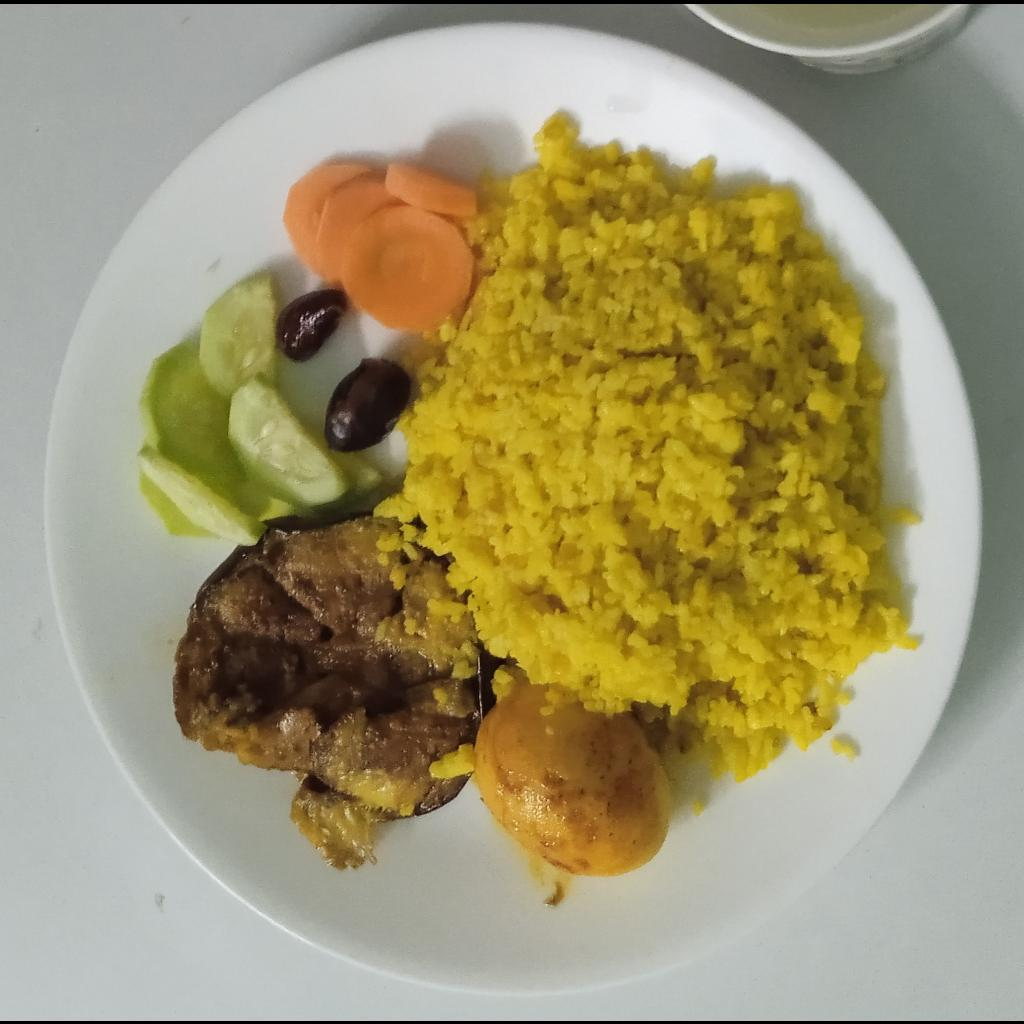begun-vaji: (173, 517, 489, 872)
carrot: (281, 160, 479, 332)
cucumber: (139, 277, 386, 545)
dates: (326, 359, 411, 450), (276, 290, 351, 366)
egg-boiled: (475, 688, 672, 880)
khichuri: (376, 123, 915, 777)
